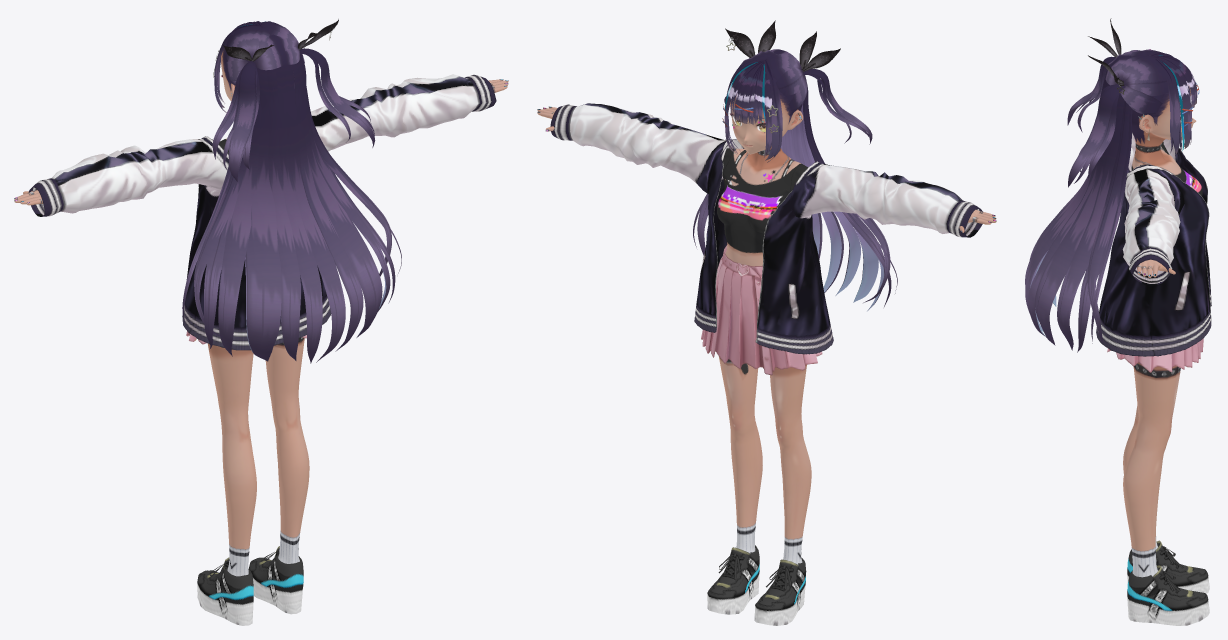
File: avatar.glb
3 renders of one model, left to right at view 1: azimuth 30°, elevation 25°; view 2: azimuth 150°, elevation 25°; view 3: azimuth 270°, elevation 25°, orthographic. The views are drawn at different scales.
Visible parts, largest first — view 1: Avatar, Back Hair; view 2: Avatar, Back Hair; view 3: Avatar, Back Hair.
Part boxes in pixels (bbox=[...]): Avatar: bbox=[14, 19, 508, 625]; Back Hair: bbox=[182, 51, 401, 363]; Avatar: bbox=[537, 20, 996, 625]; Back Hair: bbox=[693, 84, 897, 311]; Avatar: bbox=[1067, 18, 1211, 625]; Back Hair: bbox=[1025, 76, 1132, 352].
Bounding box in the file's own units: 1.34 × 1.57 × 0.4712.
10 materials, 10 textured.
